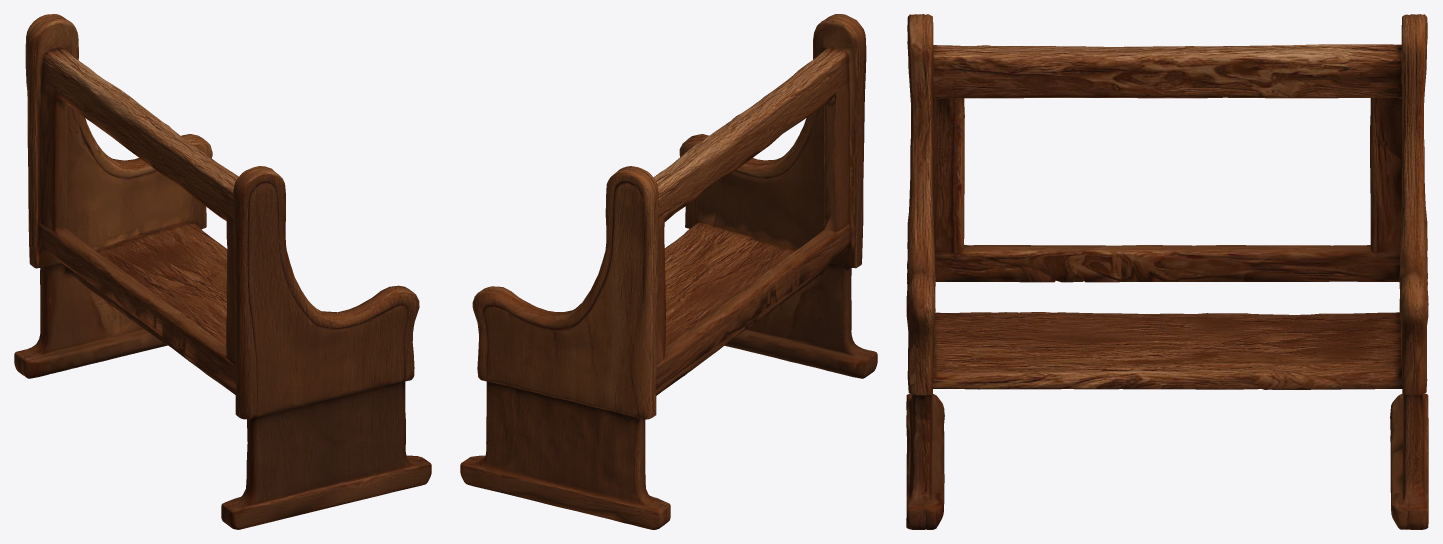
Rendered from banco.glb.
The picture shows the model from 3 angles, left to right: view 1: azimuth 30°, elevation 25°; view 2: azimuth 150°, elevation 25°; view 3: azimuth 270°, elevation 25°; orthographic projection. The views are drawn at different scales.
Parts seen in each view (by area): view 1: tripo_node_d76bfa4f-8269-41b3-8d91-6cfeec388225; view 2: tripo_node_d76bfa4f-8269-41b3-8d91-6cfeec388225; view 3: tripo_node_d76bfa4f-8269-41b3-8d91-6cfeec388225.
Part boxes in pixels (bbox=[...]): tripo_node_d76bfa4f-8269-41b3-8d91-6cfeec388225: bbox=[14, 14, 431, 529]; tripo_node_d76bfa4f-8269-41b3-8d91-6cfeec388225: bbox=[460, 14, 877, 529]; tripo_node_d76bfa4f-8269-41b3-8d91-6cfeec388225: bbox=[906, 14, 1428, 529].
Size of the model in its own units: 0.5279 by 0.8822 by 1.
Materials: 1 (1 with a texture image).
